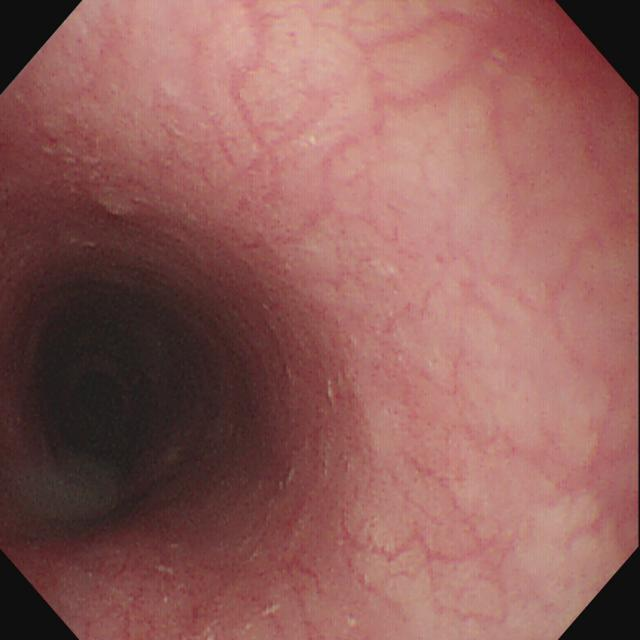E: (68, 374, 128, 438)
